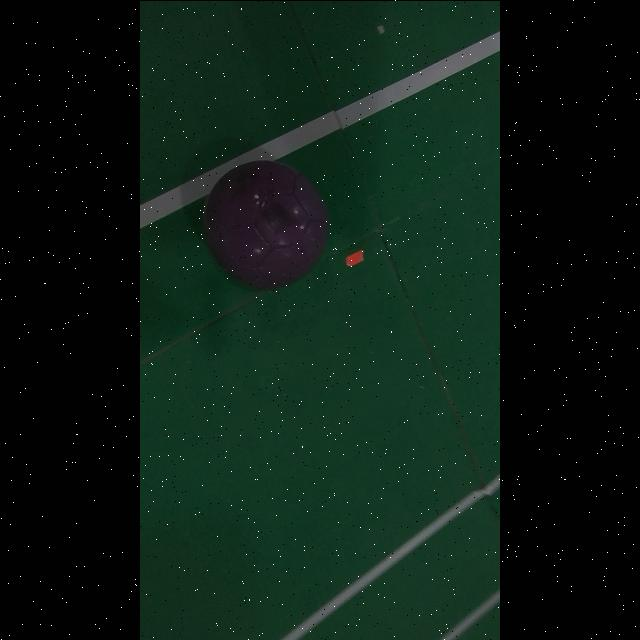P: (204, 160, 327, 288)
